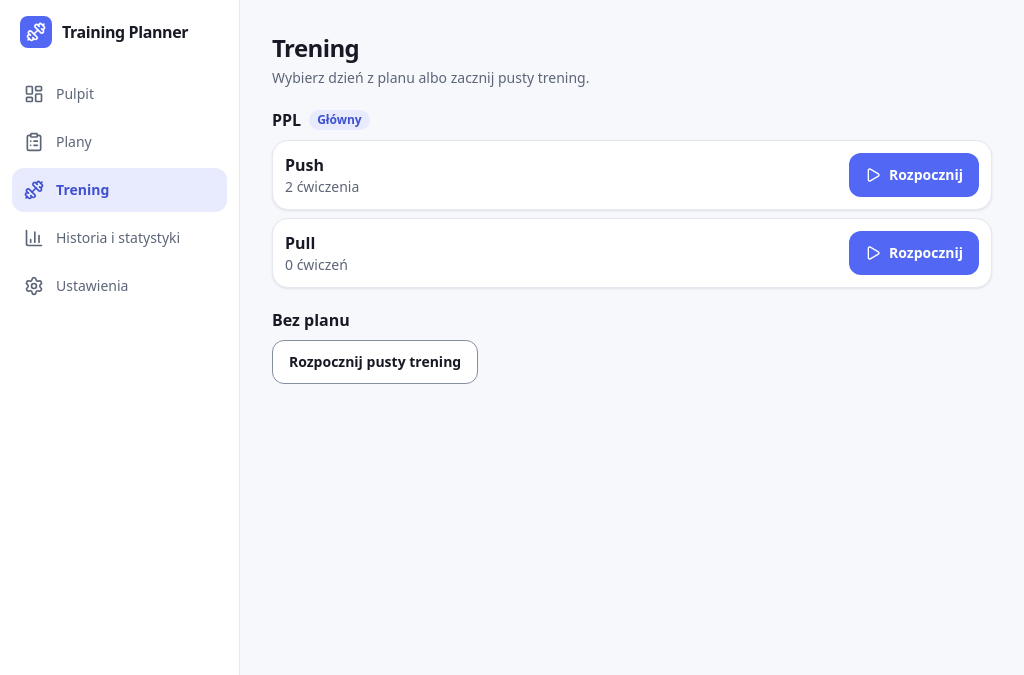
workout › explains the RIR abbreviation on request, for rep-based exercises
The image size is (1024, 675).
Click the button with aria-label "Rozpocznij: Push" at (914, 175), box [849,153,979,197]
(page scrolled)
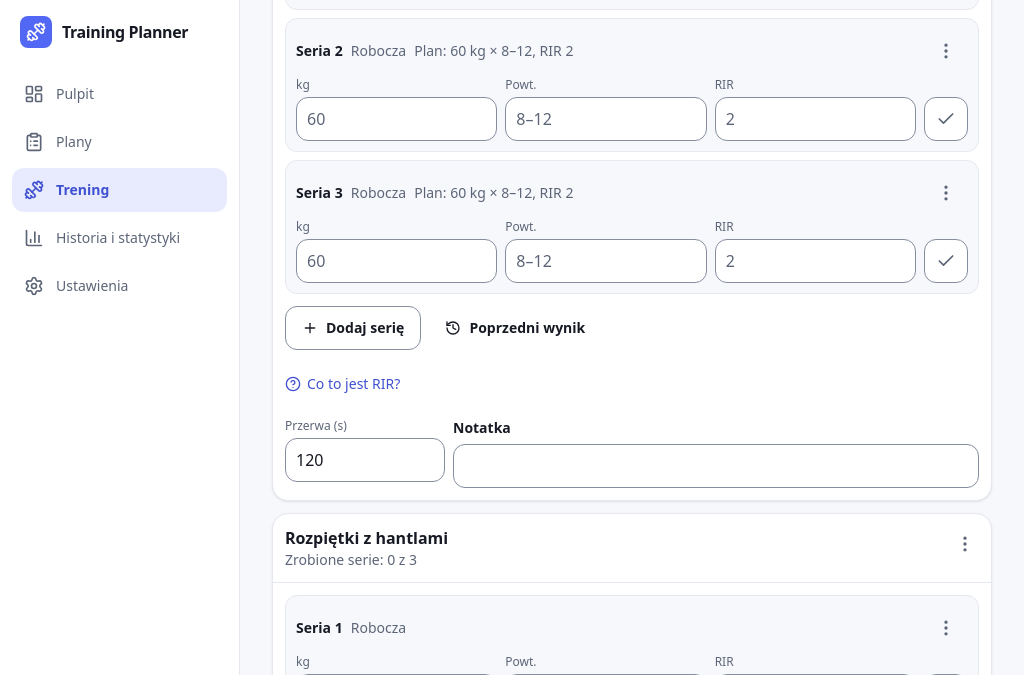
Expected: the text "powtórzenia w zapasie" is not shown
Click the heading "Co to jest RIR?" at (343, 384), box [285,374,400,393]
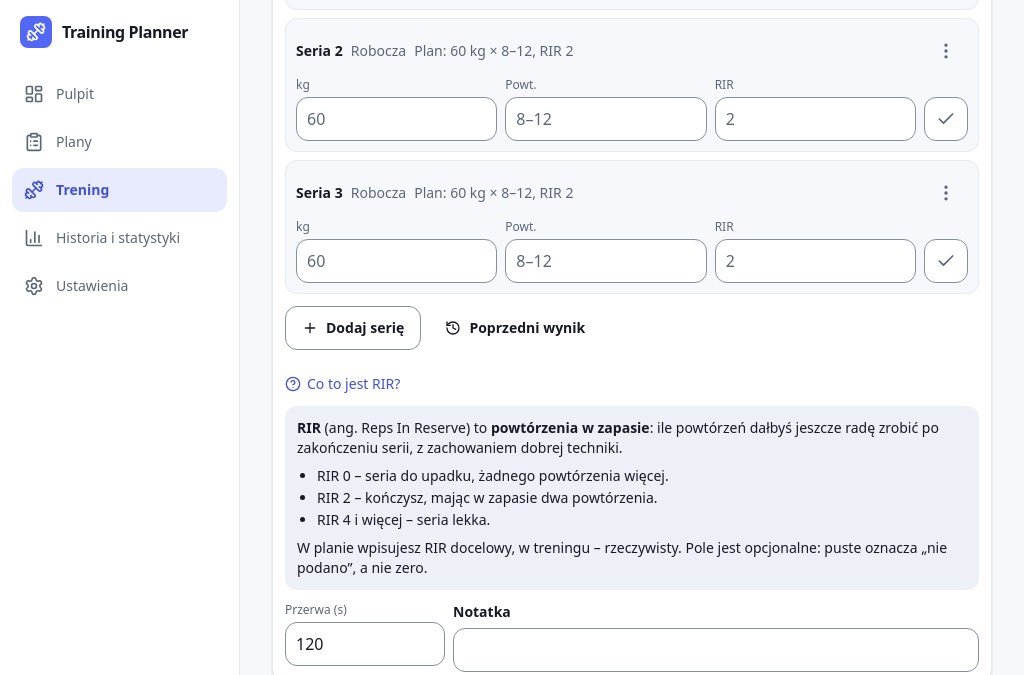
Expected: the text "powtórzenia w zapasie" is shown, [491,418,650,437]
